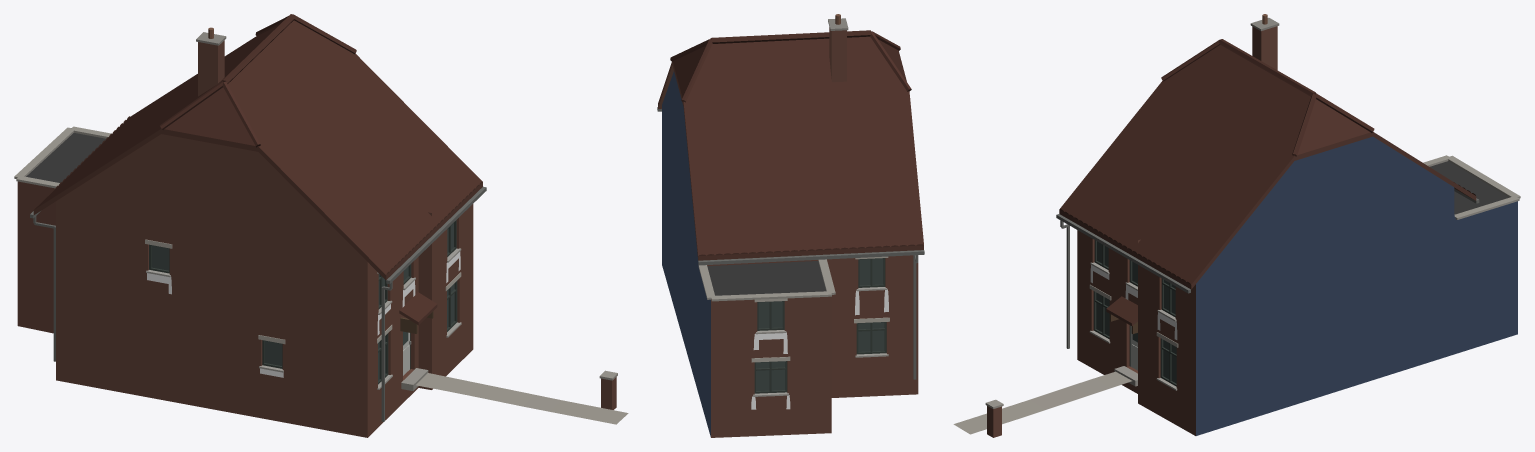
File: vh_gable_house.glb
3 views of the same model, side by side, from view 1: azimuth 30°, elevation 25°; view 2: azimuth 150°, elevation 25°; view 3: azimuth 270°, elevation 25° (orthographic). The views are drawn at different scales.
Parts seen in each view (by area): view 1: vh_brick, vh_roof, vh_stone, vh_frames_small, vh_trim, vh_paving, vh_glass, vh_streaks_small; view 2: vh_roof, vh_brick, vh_clad, vh_stone, vh_frames_small, vh_glass, vh_trim, vh_streaks_small; view 3: vh_clad, vh_roof, vh_brick, vh_stone, vh_frames_small, vh_trim, vh_paving, vh_glass.
Part boxes in pixels (x1=…): vh_brick: x1=17, y1=40, x2=616, y2=437; vh_roof: x1=34, y1=14, x2=481, y2=321; vh_stone: x1=14, y1=27, x2=617, y2=390; vh_frames_small: x1=30, y1=186, x2=486, y2=421; vh_trim: x1=33, y1=116, x2=482, y2=375; vh_paving: x1=416, y1=373, x2=628, y2=424; vh_glass: x1=151, y1=223, x2=454, y2=380; vh_streaks_small: x1=147, y1=251, x2=460, y2=377; vh_roof: x1=670, y1=30, x2=923, y2=255; vh_brick: x1=707, y1=27, x2=918, y2=437; vh_clad: x1=662, y1=71, x2=710, y2=436; vh_stone: x1=698, y1=14, x2=889, y2=396; vh_frames_small: x1=657, y1=107, x2=924, y2=393; vh_glass: x1=756, y1=258, x2=884, y2=391; vh_trim: x1=658, y1=61, x2=923, y2=260; vh_streaks_small: x1=751, y1=289, x2=888, y2=409; vh_clad: x1=1196, y1=136, x2=1517, y2=435; vh_roof: x1=1060, y1=39, x2=1374, y2=323; vh_brick: x1=987, y1=26, x2=1277, y2=437; vh_stone: x1=985, y1=14, x2=1520, y2=408; vh_frames_small: x1=1056, y1=188, x2=1479, y2=386; vh_trim: x1=1059, y1=132, x2=1476, y2=370; vh_paving: x1=953, y1=371, x2=1131, y2=434; vh_glass: x1=1096, y1=241, x2=1176, y2=383.
Size of the model in its own units: 15.56 by 13.07 by 20.98.
